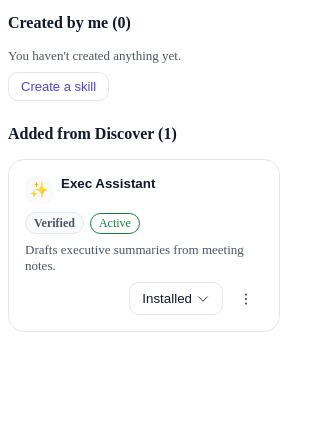
Test: Yours › install-state-consistency round (2026-09-29) › toggling Enable/Disable that fails surfaces a real error instead of an unhandled rejection (previously had no .catch at all)
Expected: the button "Exec Assistant" is shown, [61,176,263,191]
What coordinates should you click on to do the following:
click the button with test id "detail-installed-trigger"
I would click on:
 (176, 298)
Its box is [129,282,223,315].
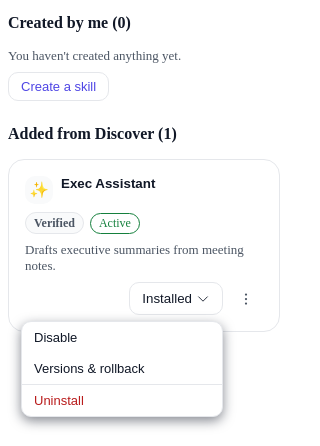
What coordinates should you click on to do the following:
click the menu item "Disable"
I would click on:
 (122, 338)
Its box is [22,322,222,353].
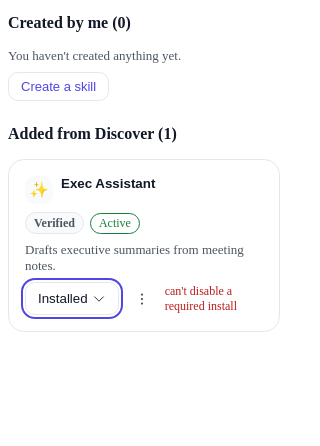
Result: the message with test id "yours-row-action-error" reads "can't disable a required install" at [165,284,237,312]
